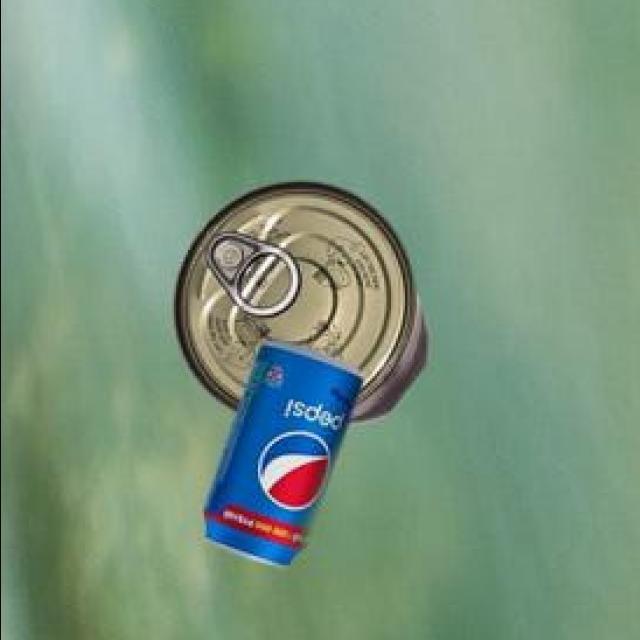logam: (169, 183, 424, 429), (200, 345, 359, 571)
